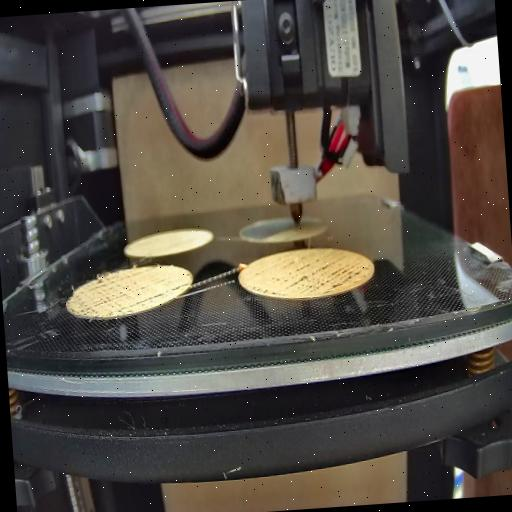under_extrusion: (252, 257, 372, 302), (70, 272, 152, 318), (152, 278, 192, 303)
